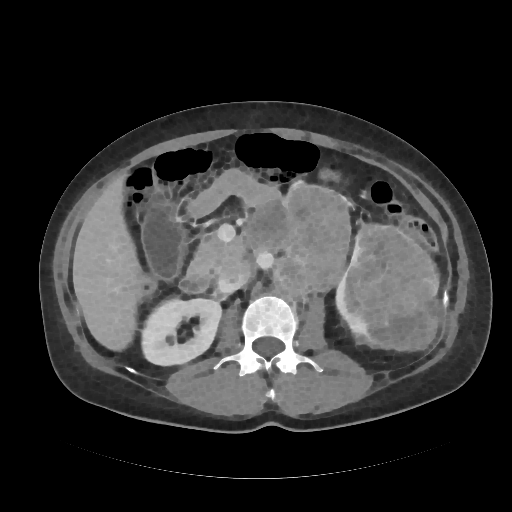Lesion: (346, 225, 443, 321)
